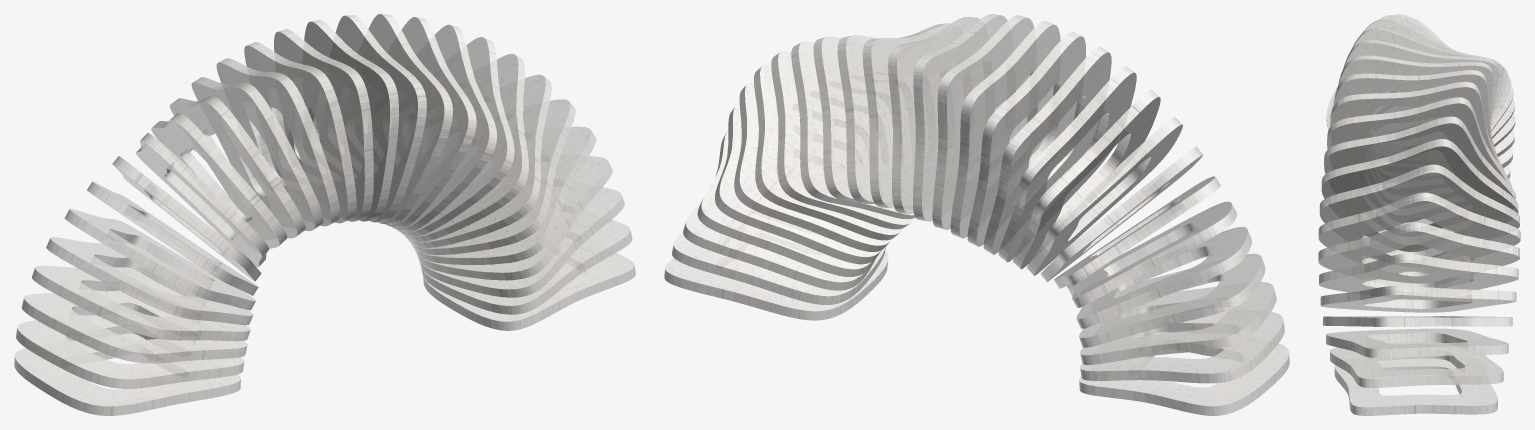
Rendered from screen011.glb.
3 views of the same model, side by side, from view 1: azimuth 30°, elevation 25°; view 2: azimuth 150°, elevation 25°; view 3: azimuth 270°, elevation 25° (orthographic). The views are drawn at different scales.
Parts seen in each view (by area): view 1: [0]; view 2: [0]; view 3: [0].
Boxes of the visible parts, x1,y1,x2,y2 form: [0]: (14, 14, 635, 415); [0]: (664, 14, 1289, 415); [0]: (1318, 14, 1520, 415).
Size of the model in its own units: 12.53 by 6.18 by 4.42.
Materials: 1 (1 with a texture image).
